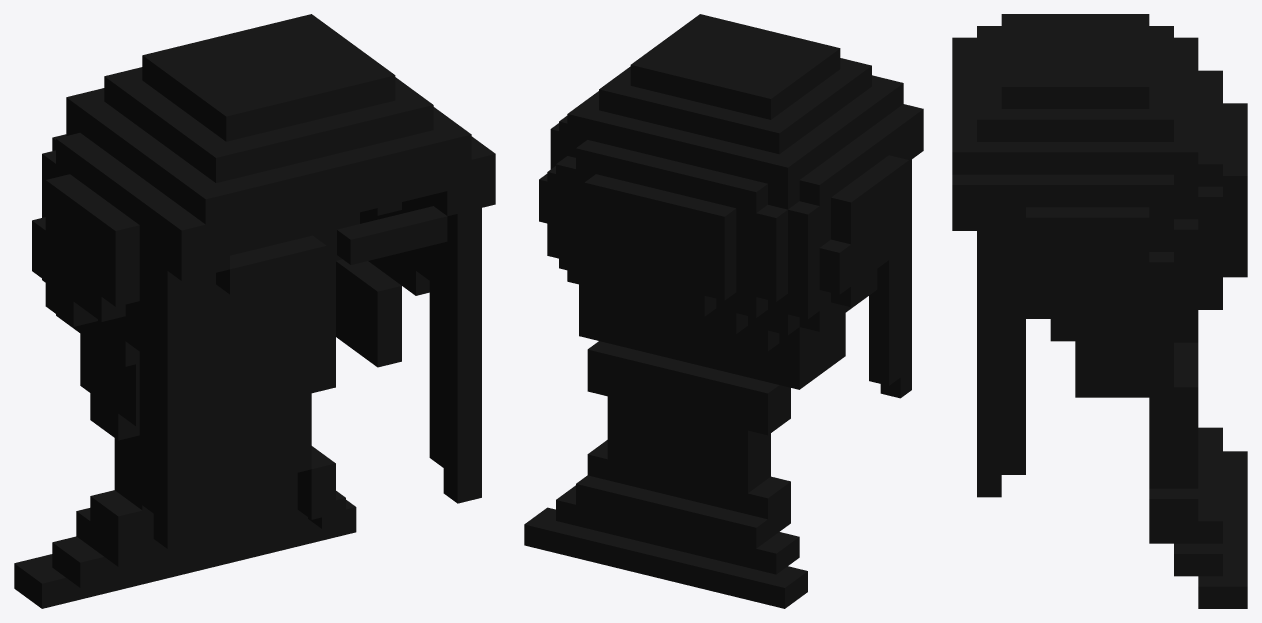
Rendered from Union_19.fbx.
The picture shows the model from 3 angles, left to right: view 1: azimuth 30°, elevation 25°; view 2: azimuth 150°, elevation 25°; view 3: azimuth 270°, elevation 25°; orthographic projection. The views are drawn at different scales.
Parts seen in each view (by area): view 1: Union_19; view 2: Union_19; view 3: Union_19.
Boxes of the visible parts, x1,y1,x2,y2 form: Union_19: [14, 14, 495, 608]; Union_19: [524, 14, 923, 608]; Union_19: [952, 14, 1247, 608].
Bounding box in the file's own units: 15 × 22 × 12.
1 material, 1 textured.
